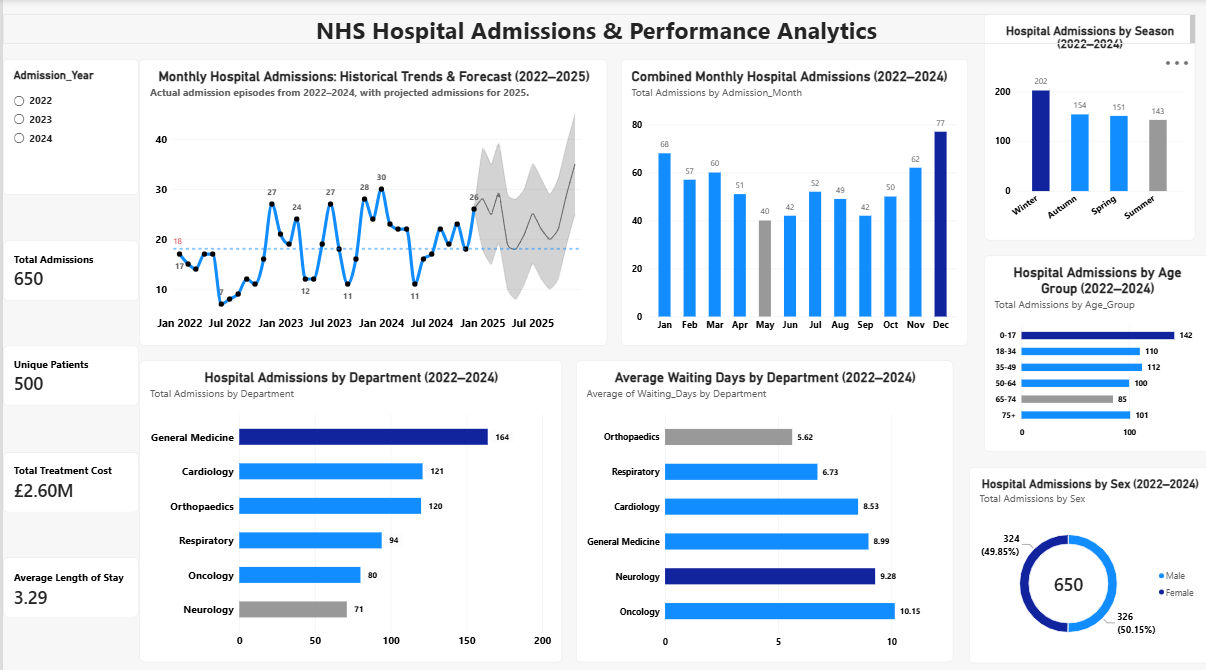

The dashboard page shown, as its layout file describes it:
{"tool":"powerbi","page":{"name":"Dashboard","canvas":[1920,1080],"ordinal":0},"visuals":[{"type":"cardVisual","fields":{"Data":["Admissions.Total Admissions"]},"box":[0,384,216,96],"z":0},{"type":"cardVisual","fields":{"Data":["Admissions.Unique Patients"]},"box":[0,552,216,96],"z":1000},{"type":"cardVisual","fields":{"Data":["Admissions.Average Length of Stay"]},"box":[0,888,216,96],"z":2000},{"type":"cardVisual","fields":{"Data":["Admissions.Total Treatment Cost"]},"box":[0,720,216,96],"z":3000},{"type":"lineChart","title":"Monthly Hospital Admissions: Historical Trends & Forecast (2022–2025)","fields":{"Category":["Admissions.Admission_Year_Month"],"Y":["Admissions.Total Admissions"]},"box":[216,96,744,456],"z":4000},{"type":"listSlicer","fields":{"Values":["Admissions.Admission_Year"]},"box":[0,96,216,216],"z":5000},{"type":"clusteredColumnChart","title":"Combined Monthly Hospital Admissions (2022–2024)","fields":{"Category":["Admissions.Admission_Month"],"Y":["Admissions.Total Admissions"]},"box":[984,96,552,456],"z":6000},{"type":"clusteredColumnChart","title":"Hospital Admissions by Season (2022–2024)","fields":{"Category":["Admissions.Season"],"Y":["Admissions.Total Admissions"]},"box":[1560,24,336,360],"z":7000},{"type":"clusteredBarChart","title":"Hospital Admissions by Department (2022–2024)","fields":{"Category":["Admissions.Department"],"Y":["Admissions.Total Admissions"]},"box":[216,576,672,480],"z":8000},{"type":"clusteredBarChart","title":"Hospital Admissions by Age Group (2022–2024)","fields":{"Category":["Admissions.Age_Group"],"Y":["Admissions.Total Admissions"]},"box":[1560,408,360,312],"z":9000},{"type":"donutChart","title":"Hospital Admissions by Sex (2022–2024)","fields":{"Category":["Admissions.Sex"],"Y":["Admissions.Total Admissions"]},"box":[1536,744,384,312],"z":10000},{"type":"clusteredBarChart","title":"Average Waiting Days by Department (2022–2024)","fields":{"Category":["Admissions.Department"],"Y":["Avg(Admissions.Waiting_Days)"]},"box":[912,576,600,480],"z":10001},{"type":"textbox","box":[0,24,1896,48],"z":10003}]}

Visuals, with their boxes in screenshot pixels (x1, y1, x2, y2), scaled from the page's 1920x1080 canvas onto the 1206x670 screenshot:
cardVisual - Admissions.Total Admissions: rect(0, 238, 136, 298)
cardVisual - Admissions.Unique Patients: rect(0, 342, 136, 402)
cardVisual - Admissions.Average Length of Stay: rect(0, 551, 136, 610)
cardVisual - Admissions.Total Treatment Cost: rect(0, 447, 136, 506)
"Monthly Hospital Admissions: Historical Trends & Forecast (2022–2025)" lineChart: rect(136, 60, 603, 342)
listSlicer - Admissions.Admission_Year: rect(0, 60, 136, 194)
"Combined Monthly Hospital Admissions (2022–2024)" clusteredColumnChart: rect(618, 60, 965, 342)
"Hospital Admissions by Season (2022–2024)" clusteredColumnChart: rect(980, 15, 1191, 238)
"Hospital Admissions by Department (2022–2024)" clusteredBarChart: rect(136, 357, 558, 655)
"Hospital Admissions by Age Group (2022–2024)" clusteredBarChart: rect(980, 253, 1205, 447)
"Hospital Admissions by Sex (2022–2024)" donutChart: rect(965, 462, 1205, 655)
"Average Waiting Days by Department (2022–2024)" clusteredBarChart: rect(573, 357, 950, 655)
textbox: rect(0, 15, 1191, 45)
